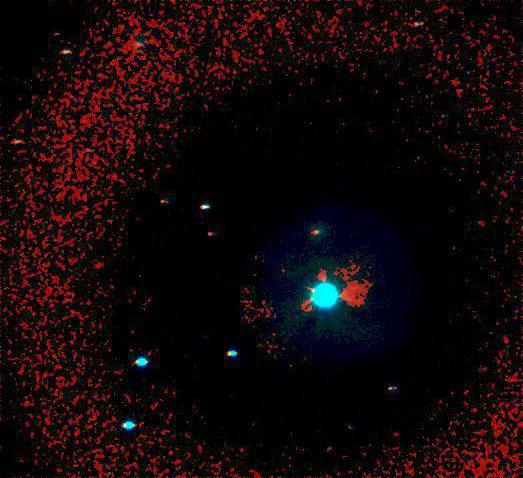star: (95, 205, 125, 235)
